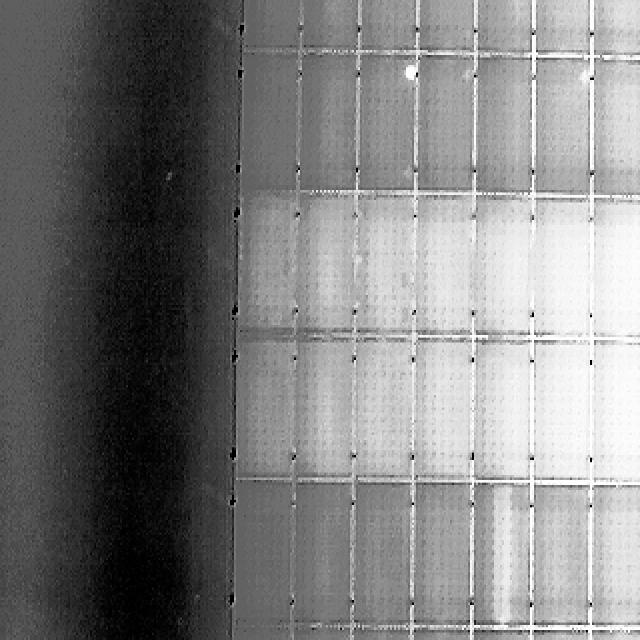Hotspots: (399, 61, 419, 87)
PV-modules: (354, 485, 417, 631), (531, 486, 593, 632), (467, 485, 528, 632), (356, 197, 418, 341), (289, 484, 350, 630), (356, 342, 418, 484), (412, 486, 472, 632), (468, 199, 529, 342), (531, 198, 592, 340), (413, 58, 474, 198), (412, 342, 472, 484), (468, 341, 528, 483), (532, 342, 592, 484), (241, 53, 301, 195), (414, 198, 473, 342), (293, 341, 352, 484), (237, 341, 296, 484), (236, 483, 294, 628), (470, 58, 530, 198), (534, 59, 594, 199), (297, 56, 356, 197), (360, 57, 419, 197), (239, 197, 298, 337), (294, 197, 352, 339), (586, 485, 640, 630), (586, 200, 640, 342), (586, 343, 640, 485), (586, 60, 640, 200), (472, 0, 533, 56), (534, 0, 594, 56), (413, 0, 474, 54), (359, 0, 419, 53), (298, 0, 359, 52), (244, 0, 304, 50), (590, 0, 640, 55), (408, 627, 470, 640), (286, 627, 348, 640), (232, 627, 292, 640), (352, 630, 414, 640), (530, 630, 592, 640), (466, 630, 526, 640), (586, 630, 640, 640)
